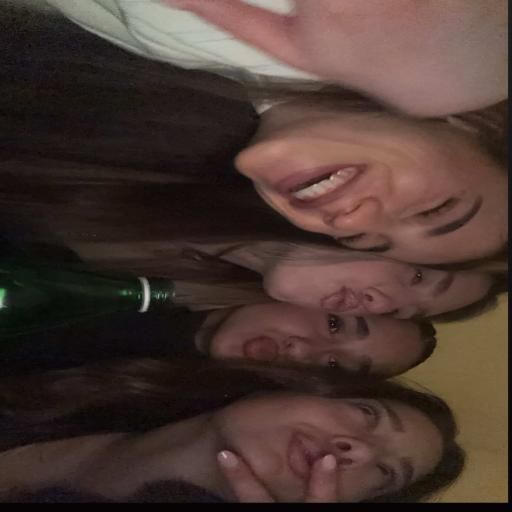masa: (236, 126, 500, 264)
